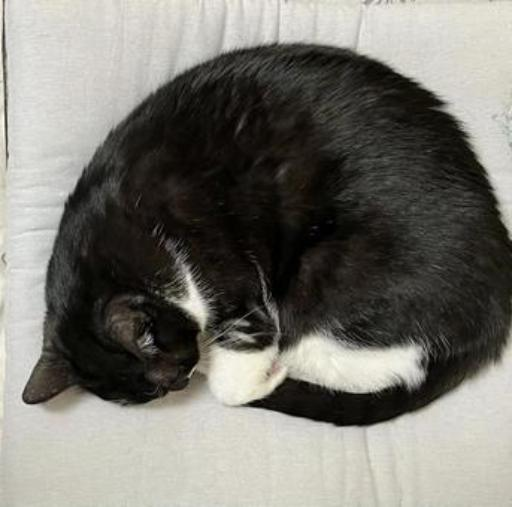cat_sleeping: (24, 43, 512, 424)
